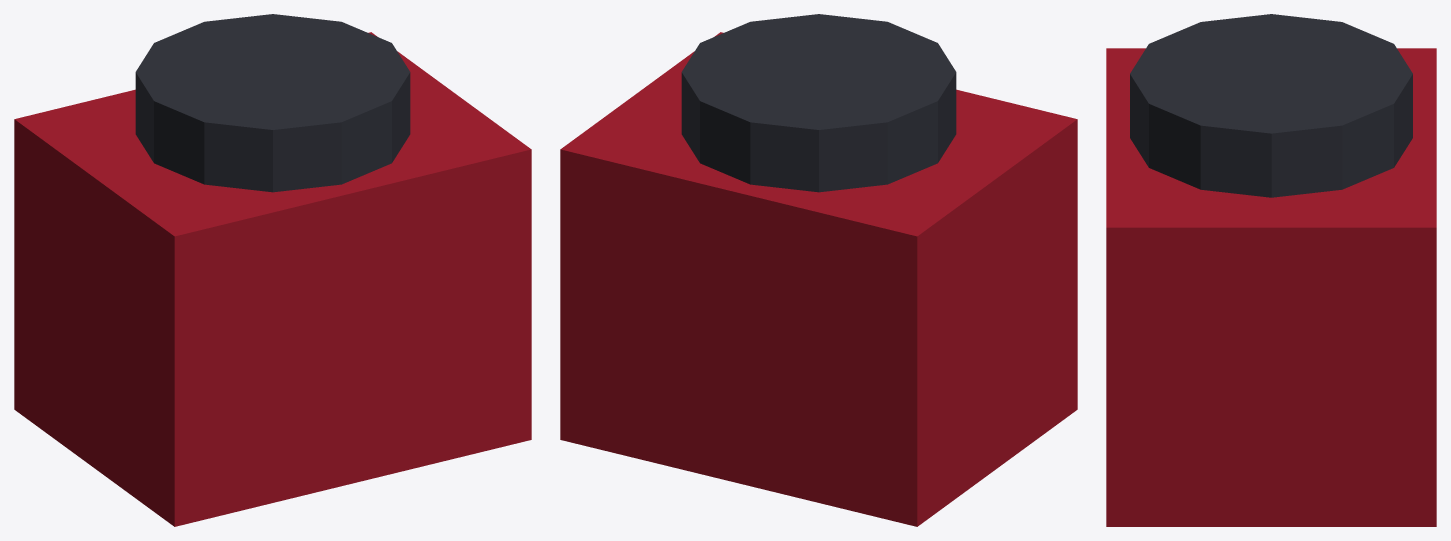
File: hostile_robot.glb
3 renders of one model, left to right at view 1: azimuth 30°, elevation 25°; view 2: azimuth 150°, elevation 25°; view 3: azimuth 270°, elevation 25°, orthographic. The views are drawn at different scales.
Visible parts, largest first — view 1: part_0, part_1; view 2: part_0, part_1; view 3: part_0, part_1.
Part boxes in pixels (left/top/right/bottom): part_0: left=14, top=32, right=531, bottom=526; part_1: left=135, top=14, right=410, bottom=192; part_0: left=560, top=32, right=1077, bottom=526; part_1: left=681, top=14, right=956, bottom=192; part_0: left=1106, top=48, right=1436, bottom=526; part_1: left=1130, top=14, right=1412, bottom=197.
Size of the model in its own units: 0.9 by 0.85 by 0.7.
